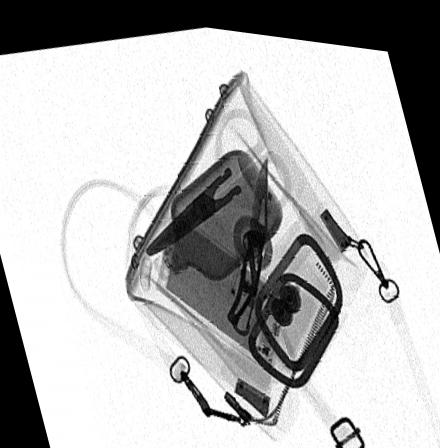Knife: (227, 151, 268, 329)
Powerbank: (152, 199, 292, 381)
Scissors: (142, 100, 289, 254)
